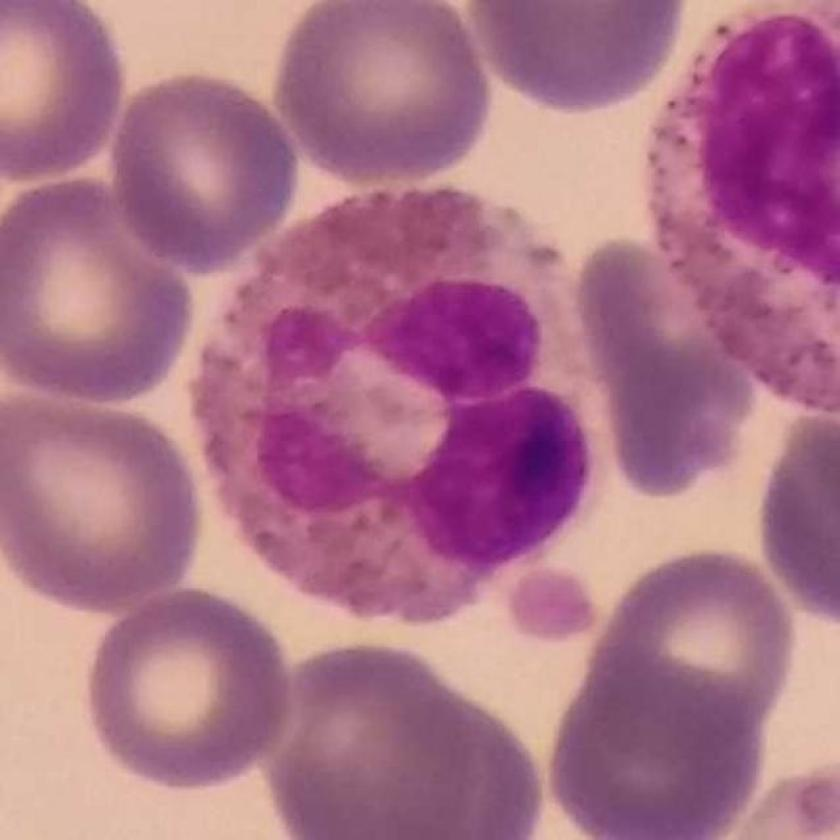eosinophil: (185, 169, 619, 630)
